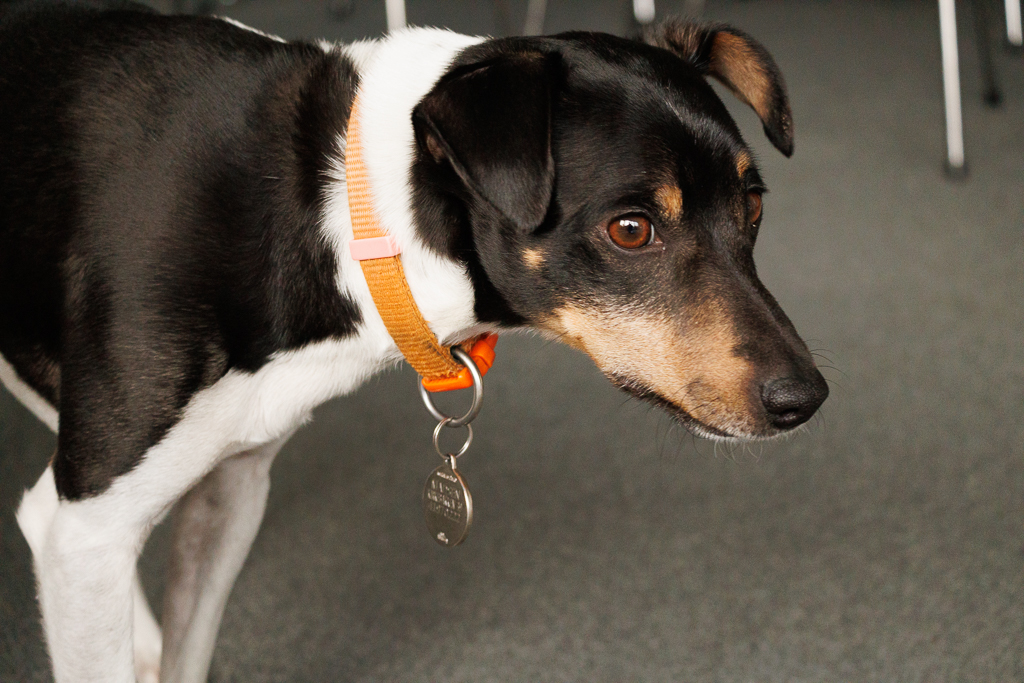Dog: (0, 0, 867, 683)
